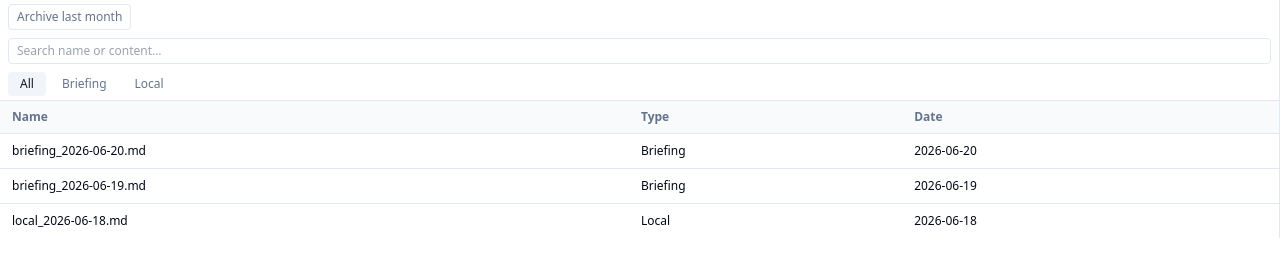
BriefingDashboard › renders a Type tab per type present and filters the list on select
The width and height of the screenshot is (1280, 255).
Expected: the button with test id "briefing-tab-__all__" is shown, [8, 72, 46, 96]
Expected: the button with test id "briefing-tab-briefing" is shown, [50, 72, 118, 96]
Click the button with test id "briefing-tab-local" at {"x": 149, "y": 84}, box [122, 72, 176, 96]
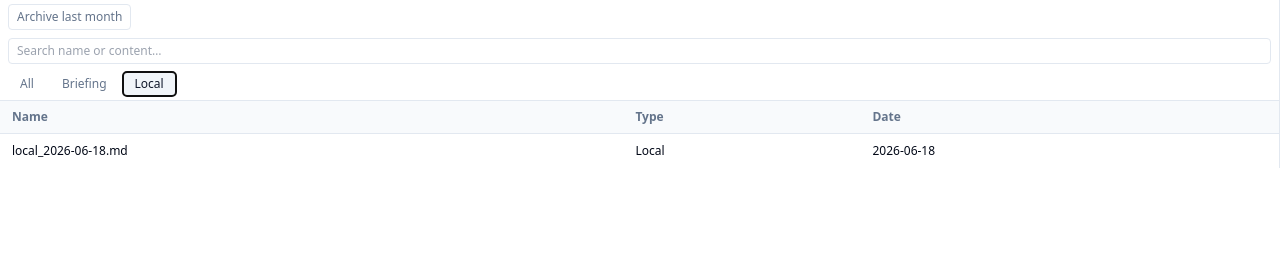
Expected: the row with test id "briefing-row-local_2026-06-18.md" is shown, [0, 134, 1279, 168]
# All restores everything
Click the button with test id "briefing-tab-__all__" at {"x": 27, "y": 84}, box [8, 72, 46, 96]
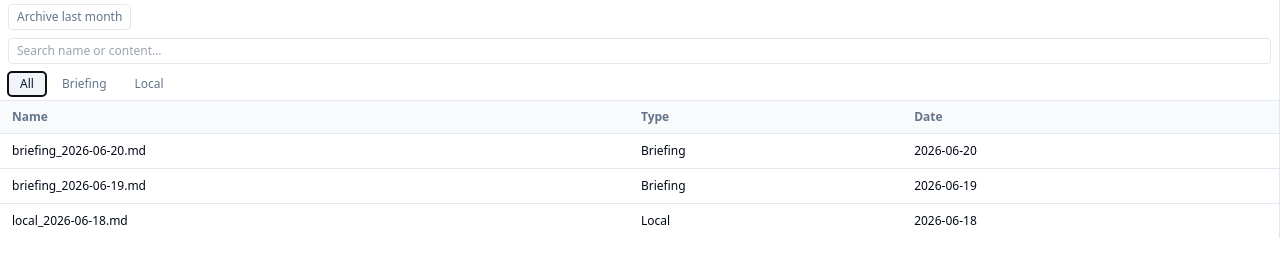
Expected: the row with test id "briefing-row-briefing_2026-06-20.md" is shown, [0, 134, 1279, 168]
